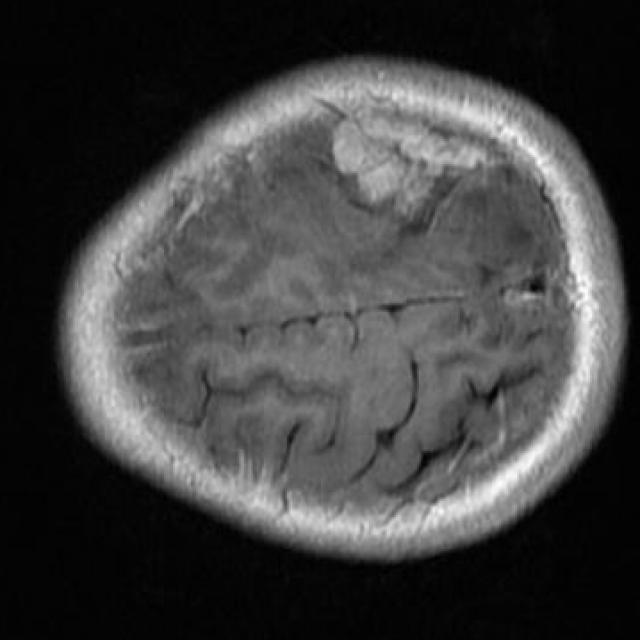meningioma: (333, 119, 496, 217)
